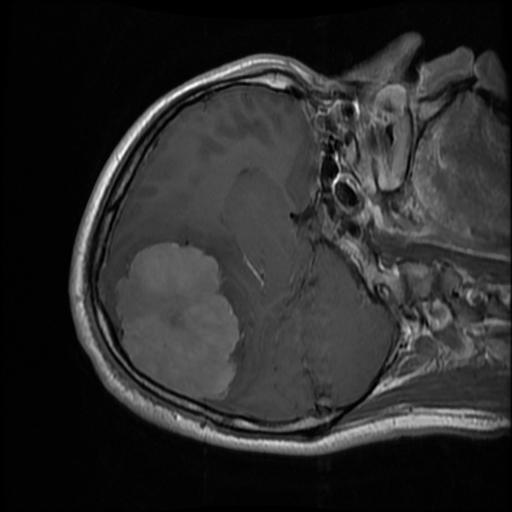meningioma: (115, 243, 240, 403)
